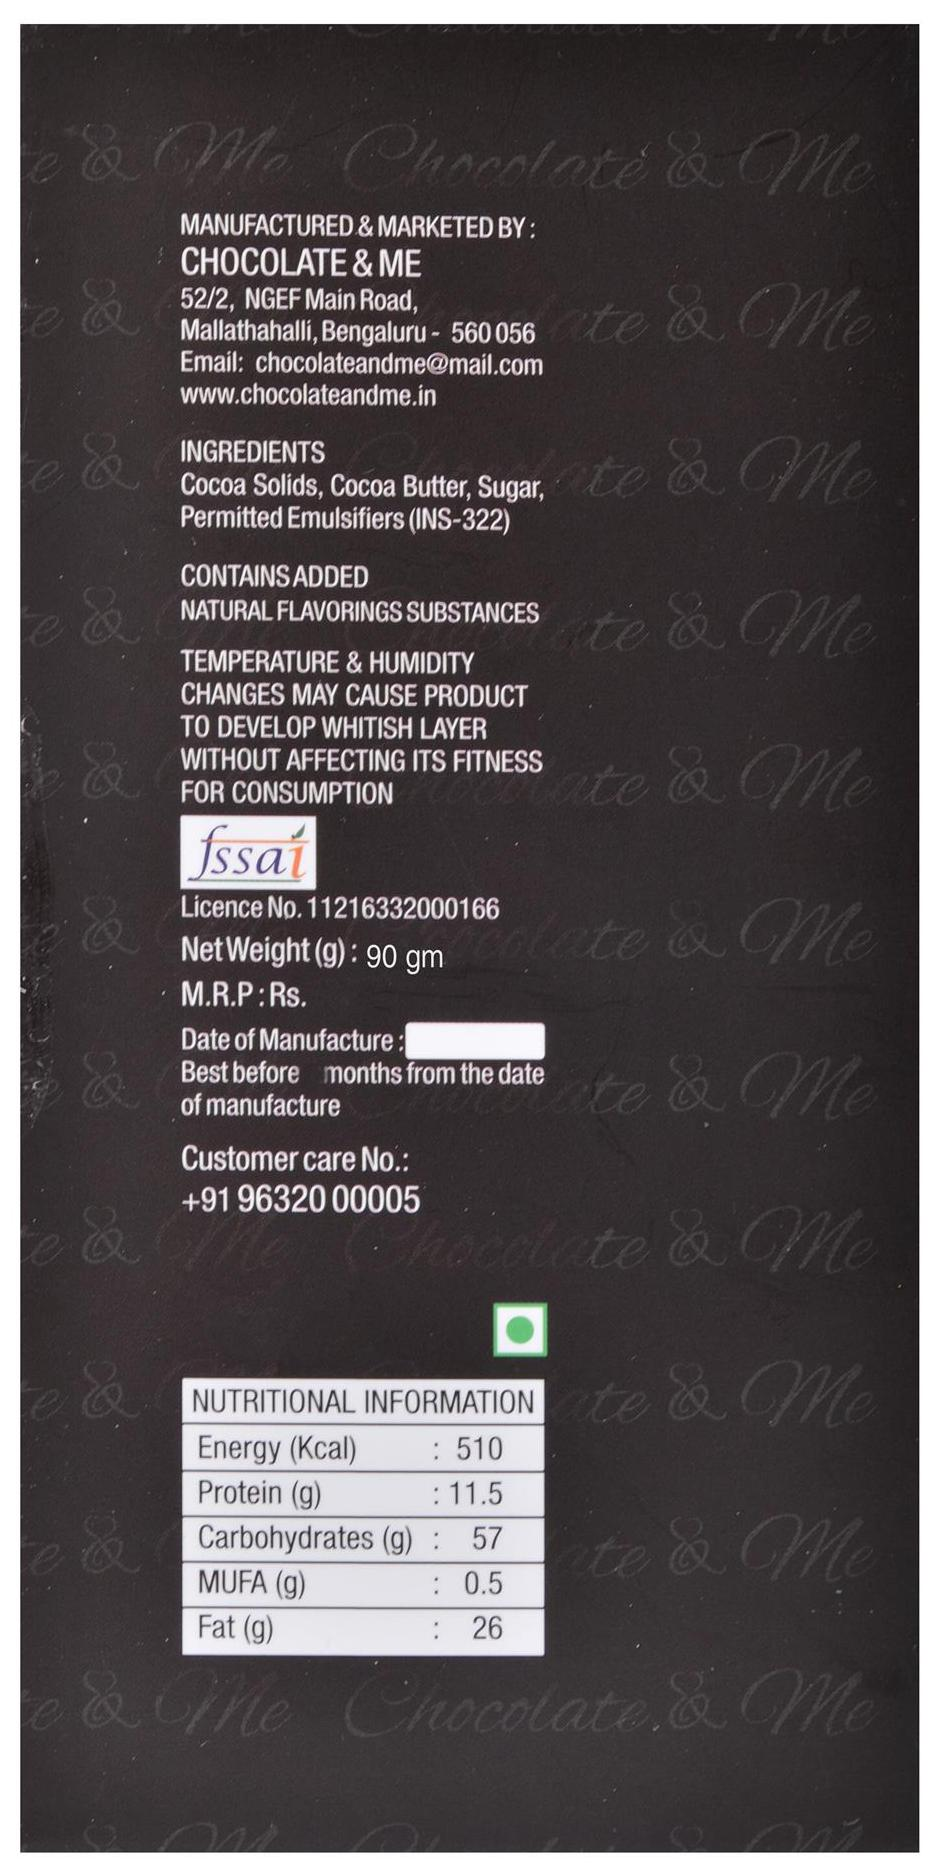fssai: (190, 824, 306, 882)
